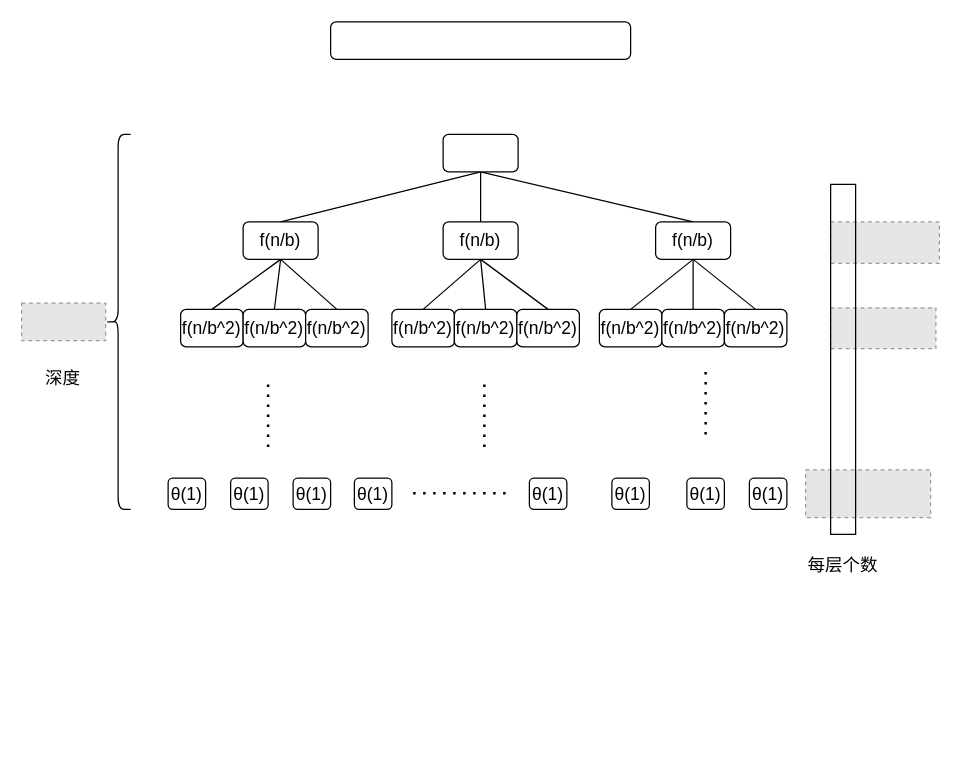
Some shapes in this 963 by 783 pixel diagram are drawn without their labels. Grey dashed boxes stand in for pictures. Each missing label, with the centre of its shape:
f(n): point 480,152
T(n) = aT(n/b) + f(n): point 480,40
